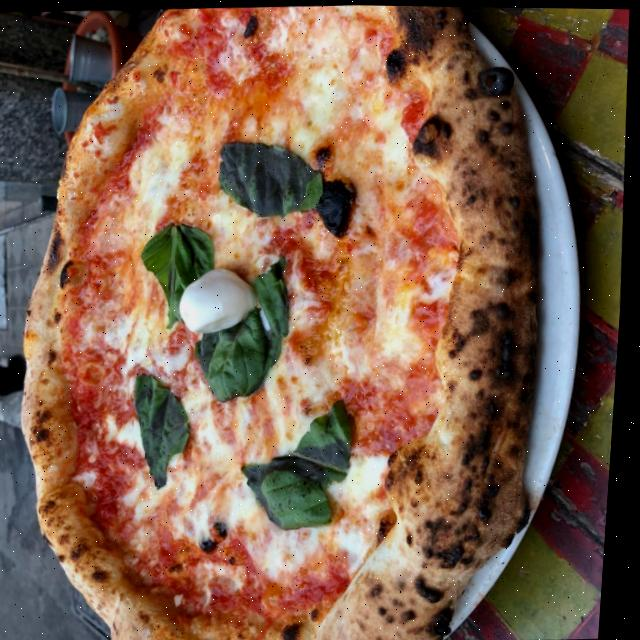basil: (239, 398, 364, 535), (217, 137, 328, 214), (134, 375, 202, 490), (195, 327, 291, 401), (136, 216, 197, 324), (249, 257, 297, 357), (167, 218, 220, 278)
pizza: (2, 0, 568, 640)
